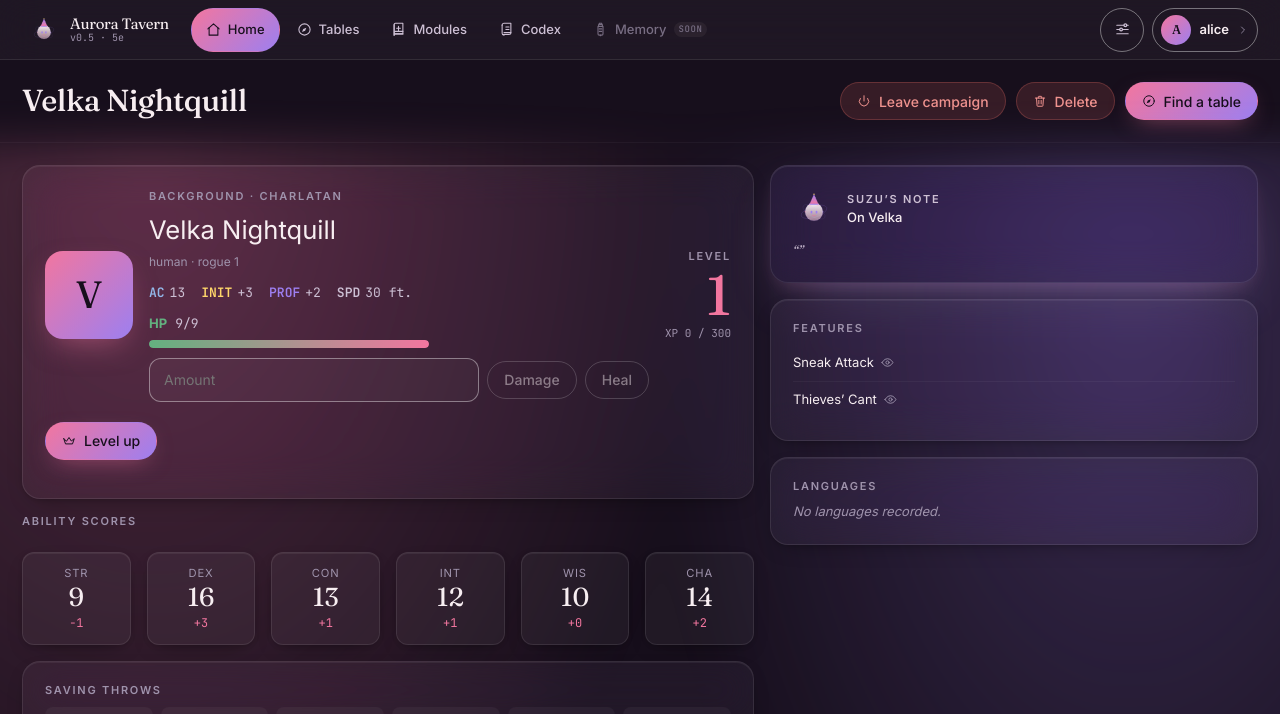
Test: Character sheet — B1 LeaveCampaignButton (real page wiring) › A11Y (Tora MAJOR-1 / Iro MAJOR-1): leaving successfully moves focus to the "Ability scores" heading, never stranding it at <body>
Expected: the heading "Velka Nightquill" is shown, [22,84,246,118]
What coordinates should you click on to do the following:
click the button "Leave campaign"
I would click on:
 (923, 101)
Its box is [840,82,1006,120].
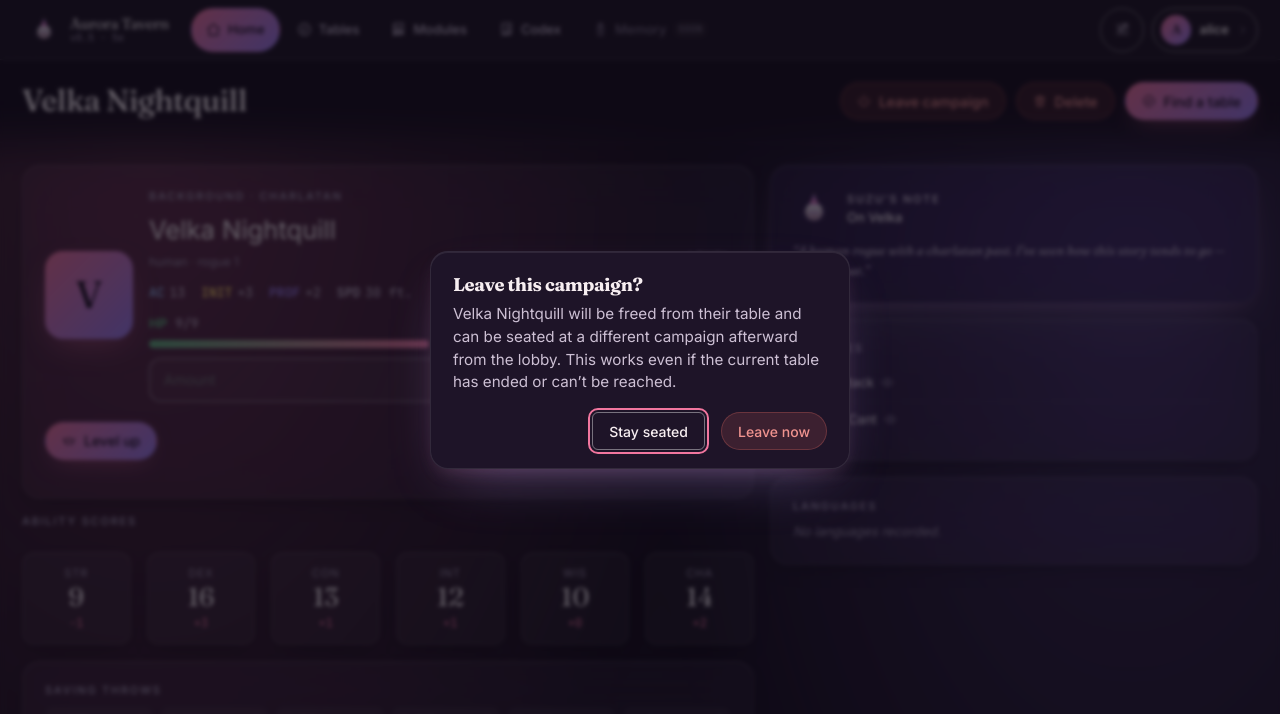
What coordinates should you click on to do the following:
click the button "Leave now"
I would click on:
 (774, 431)
Its box is [721,412,827,450].
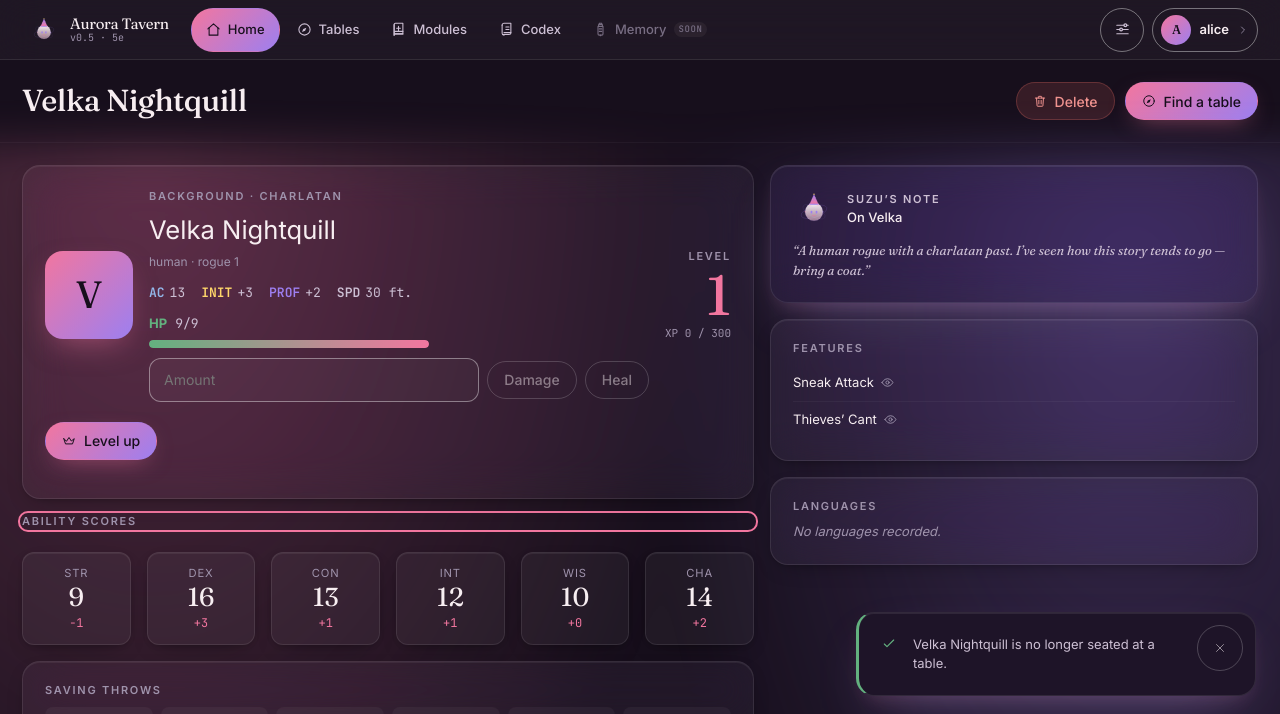
Expected: the button "Leave now" is gone
